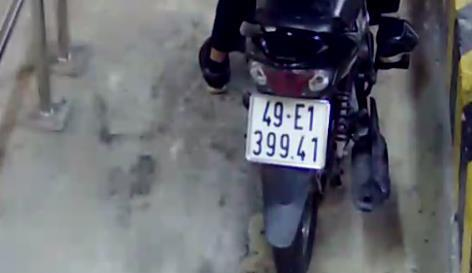lisence: (246, 91, 331, 172)
